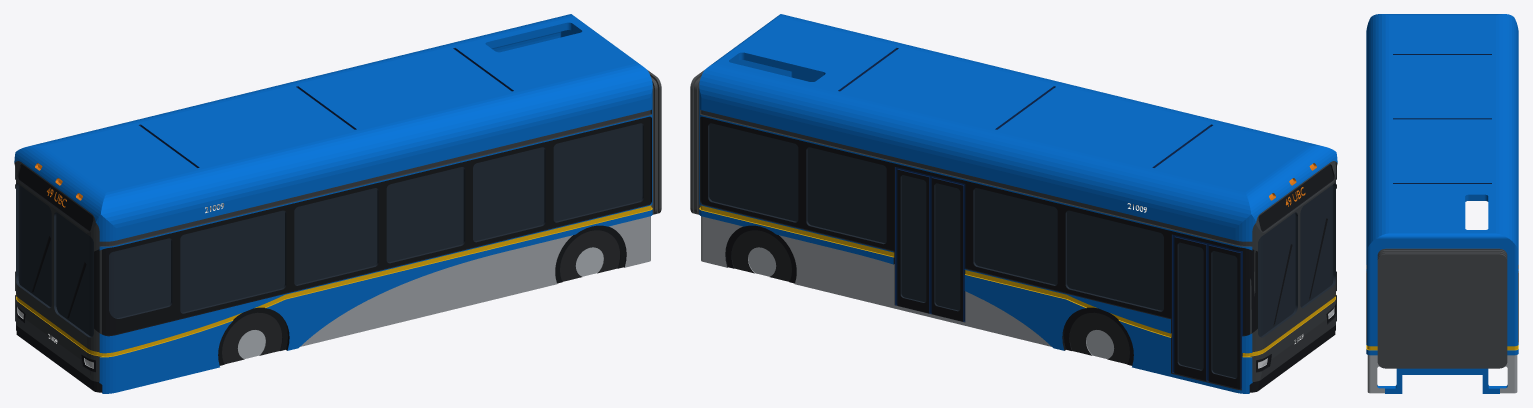
Rendered from bus49_front.glb.
3 views of the same model, side by side, from view 1: azimuth 30°, elevation 25°; view 2: azimuth 150°, elevation 25°; view 3: azimuth 270°, elevation 25° (orthographic). The views are drawn at different scales.
Visible parts, largest first — view 1: translink_bus49_front; view 2: translink_bus49_front; view 3: translink_bus49_front.
Part boxes in pixels (left/top/right/bottom): translink_bus49_front: left=14, top=14, right=661, bottom=393; translink_bus49_front: left=690, top=14, right=1337, bottom=393; translink_bus49_front: left=1366, top=14, right=1518, bottom=393.
Size of the model in its own units: 145 by 46 by 40.
